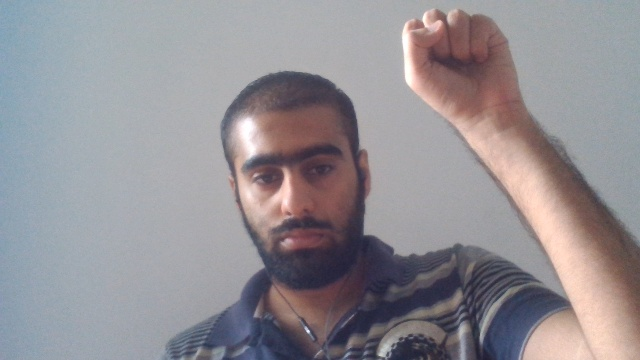rock: (401, 7, 537, 124)
